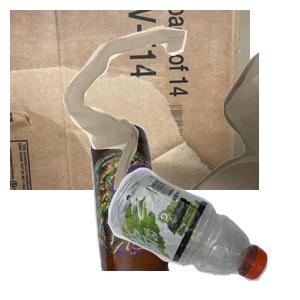cardboard: (10, 10, 250, 190)
glass: (88, 120, 252, 300)
plastic: (105, 165, 300, 300)
trash: (60, 23, 300, 203)
